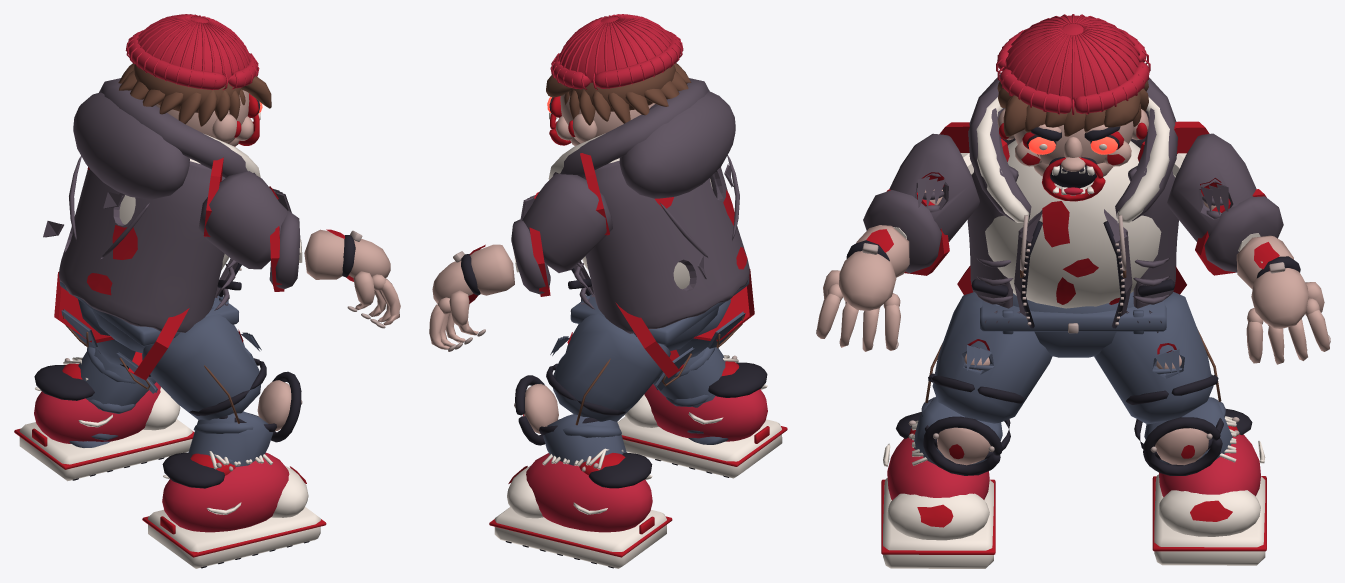
The model's file is inf.skater.glb.
3 renders of one model, left to right at view 1: azimuth 30°, elevation 25°; view 2: azimuth 150°, elevation 25°; view 3: azimuth 270°, elevation 25°, orthographic. The views are drawn at different scales.
Visible parts, largest first — view 1: torso, footR, head, footL, legR, armR, shinR, foreArmR, shinL, handR, hip, legL (+4 smaller); view 2: torso, footL, head, footR, legL, armL, shinL, foreArmL, handL, shinR, hip, stump_legL (+4 smaller); view 3: torso, head, footR, footL, legR, legL, hip, armL, handR, handL, armR, foreArmL (+6 smaller).
Boxes of the visible parts, box(x1,y1,x2,y2) form: torso: box(43, 78, 260, 332); footR: box(142, 451, 326, 568); head: box(118, 14, 271, 146); footL: box(14, 357, 194, 481); legR: box(116, 307, 266, 423); armR: box(198, 171, 291, 269); shinR: box(188, 371, 302, 466); foreArmR: box(269, 210, 362, 289); shinL: box(69, 347, 155, 447); handR: box(346, 239, 400, 328); hip: box(59, 280, 238, 352); legL: box(61, 299, 135, 365); torso: box(548, 78, 749, 333); footL: box(489, 448, 672, 568); head: box(546, 14, 691, 145); footR: box(617, 355, 787, 478); legL: box(546, 311, 694, 425); armL: box(520, 173, 612, 272); shinL: box(514, 375, 626, 465); foreArmL: box(453, 219, 550, 295); handL: box(429, 261, 485, 351); shinR: box(653, 347, 728, 444); hip: box(570, 276, 749, 350); stump_legL: box(615, 302, 683, 378); torso: box(967, 74, 1178, 332); head: box(996, 14, 1150, 201); footR: box(881, 412, 995, 568); footL: box(1152, 409, 1266, 565); legR: box(925, 292, 1052, 423); legL: box(1094, 292, 1221, 424); hip: box(980, 291, 1166, 357); armL: box(1167, 133, 1256, 241); handR: box(816, 251, 900, 351); handL: box(1246, 268, 1330, 364); armR: box(889, 133, 979, 241); foreArmL: box(1204, 196, 1300, 289).
Bounding box in the file's own units: 0.7007 × 1.42 × 1.27.
